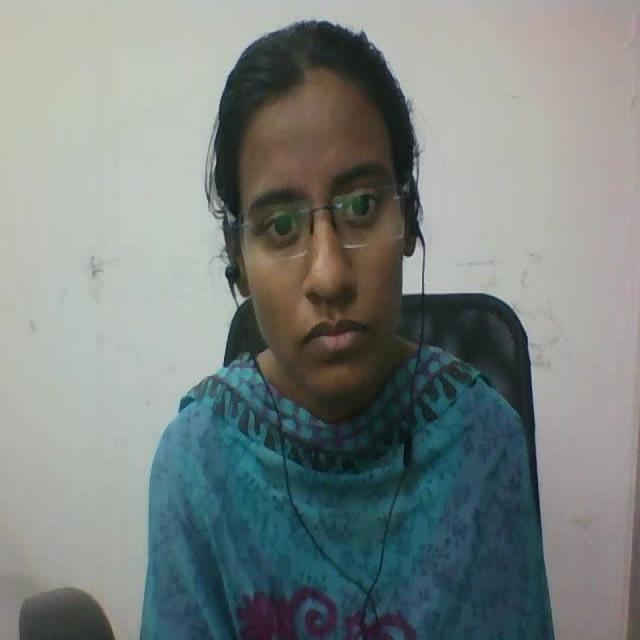Engaged: (201, 0, 442, 419)
